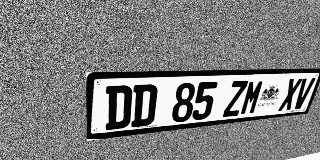5: (191, 82, 218, 121)
8: (171, 82, 198, 123)
D: (105, 85, 133, 130), (131, 84, 158, 127)
M: (239, 80, 265, 115)
V: (291, 78, 316, 110)
X: (278, 78, 303, 111)
Z: (222, 80, 248, 117)
